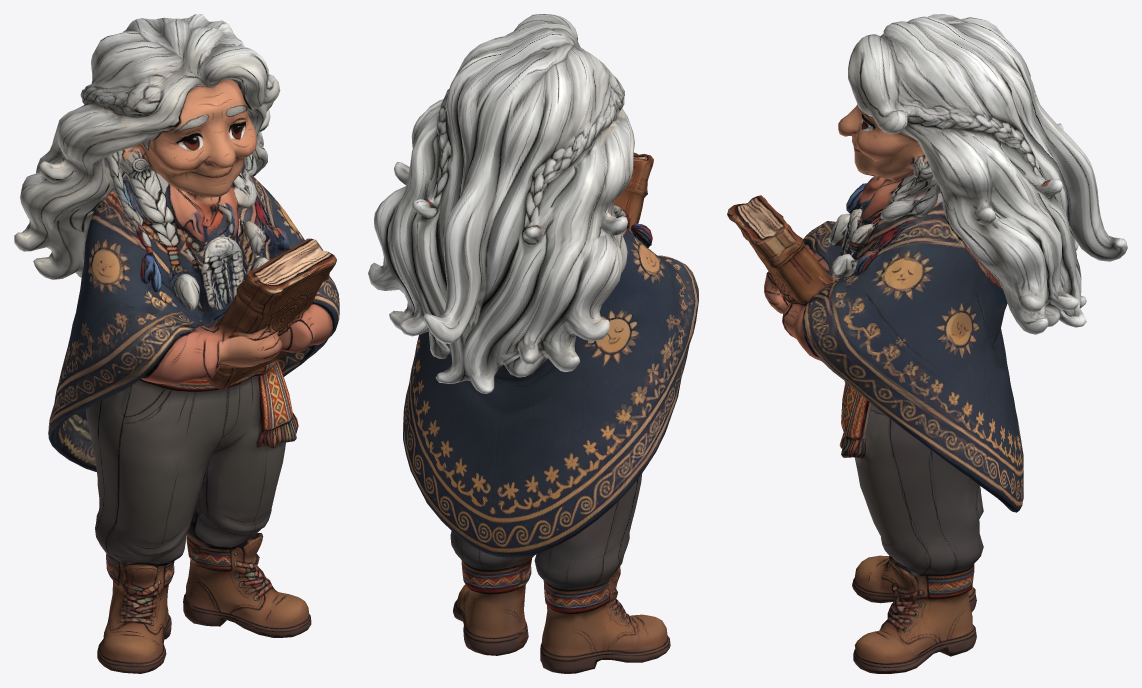
File: Clara_Meshy.glb
3 renders of one model, left to right at view 1: azimuth 30°, elevation 25°; view 2: azimuth 150°, elevation 25°; view 3: azimuth 270°, elevation 25°, orthographic.
Visible parts, largest first — view 1: Mesh_0.003; view 2: Mesh_0.003; view 3: Mesh_0.003.
Part boxes in pixels (x1,y1,x2,y2): Mesh_0.003: (14,14,339,673); Mesh_0.003: (368,14,698,673); Mesh_0.003: (727,14,1127,673).
Bounding box in the file's own units: 0.7191 × 1.7 × 1.02.
Materials: 1 (1 with a texture image).
